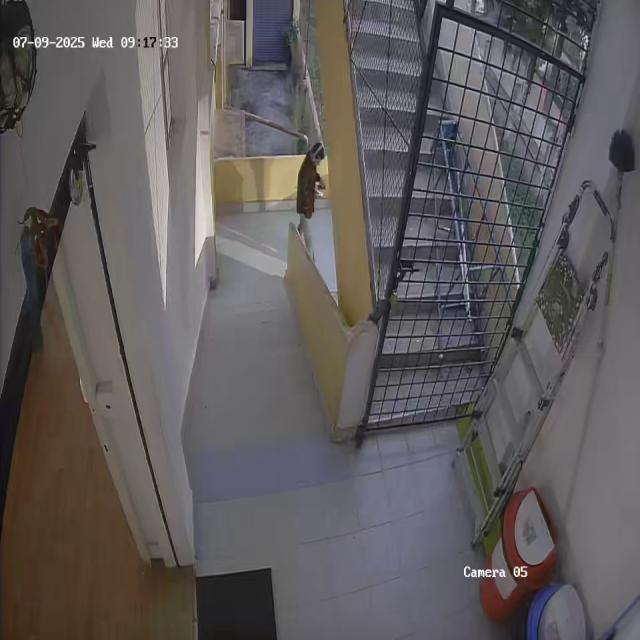person: (296, 143, 327, 256)
